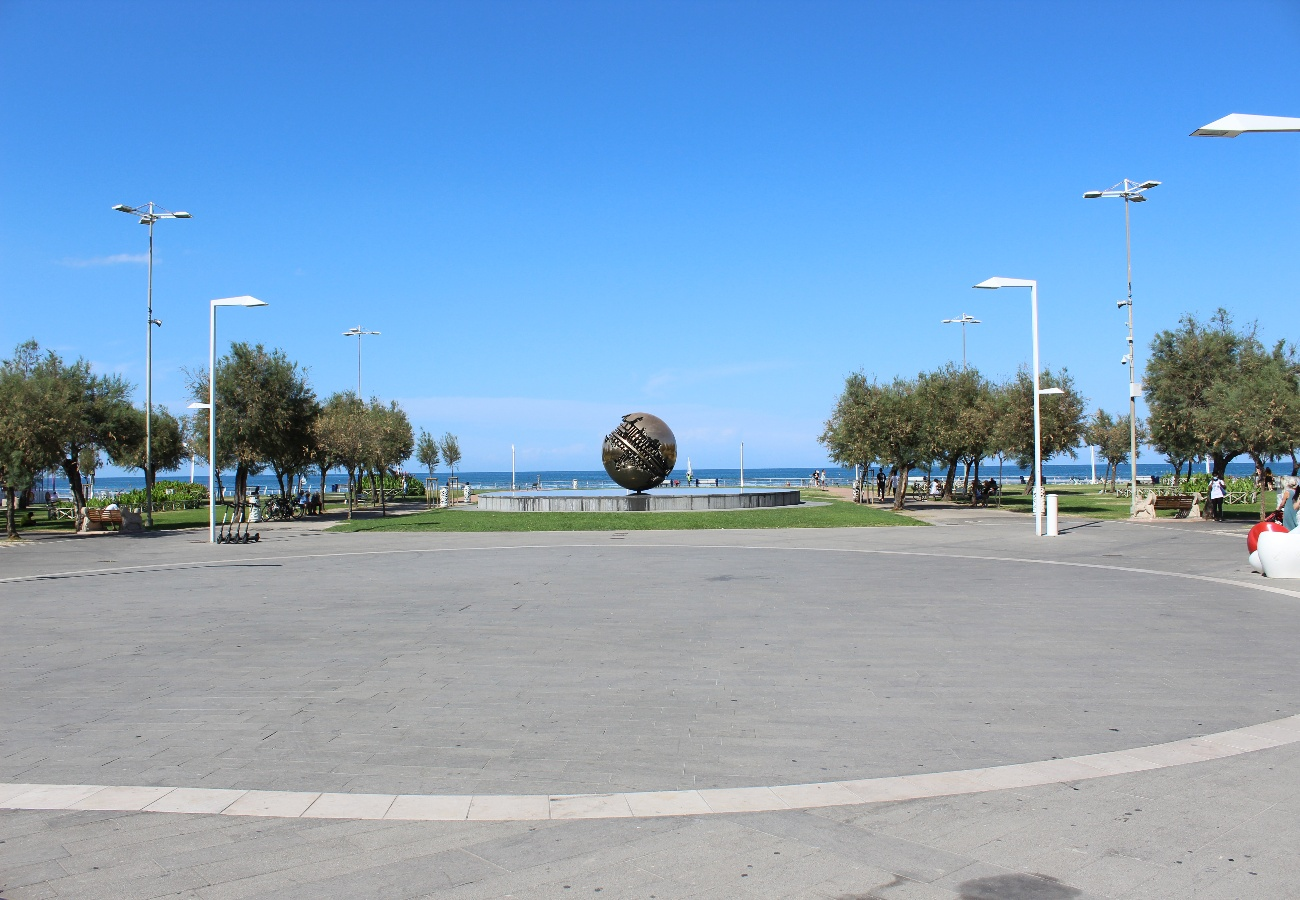Palla di Pomodoro: (600, 412, 680, 496)
